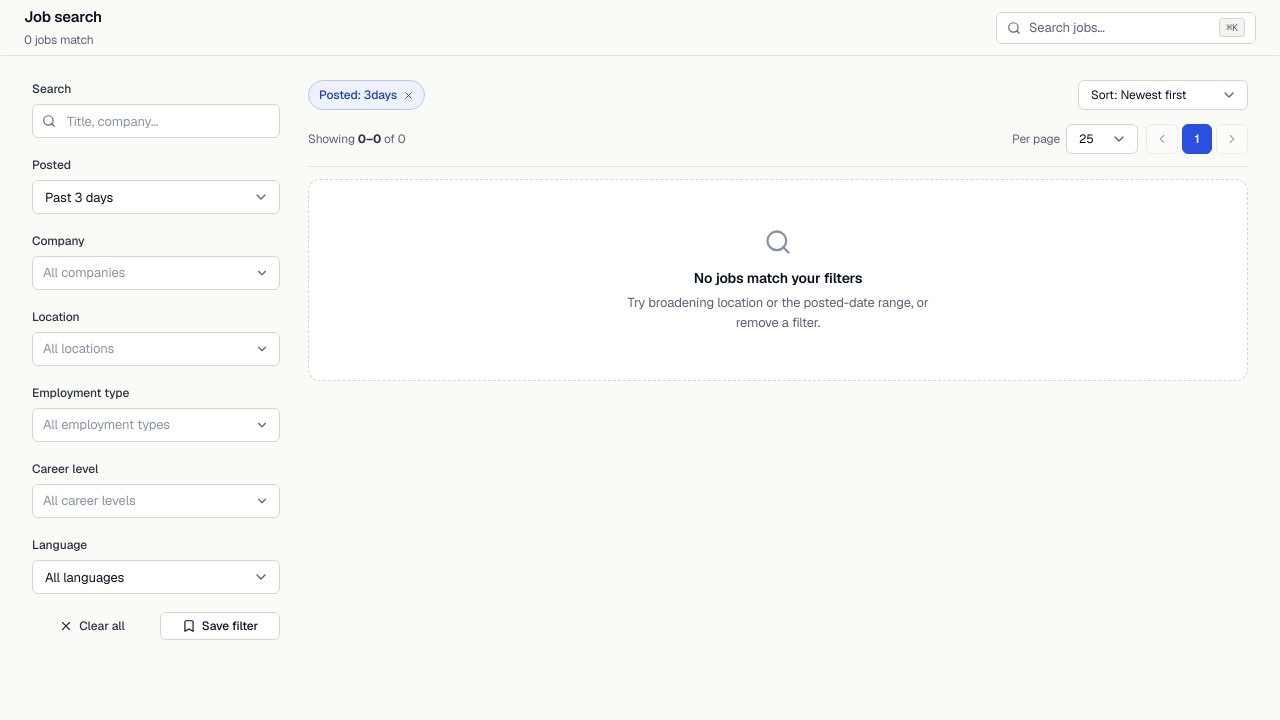
Test: saving a preset (USE_API=true) › TC-523-E04 with no active filters (Posted=Any time), Save filter is not offered
Select "Any time" in the 3rd dropdown at (156, 197), box [32,180,280,214]
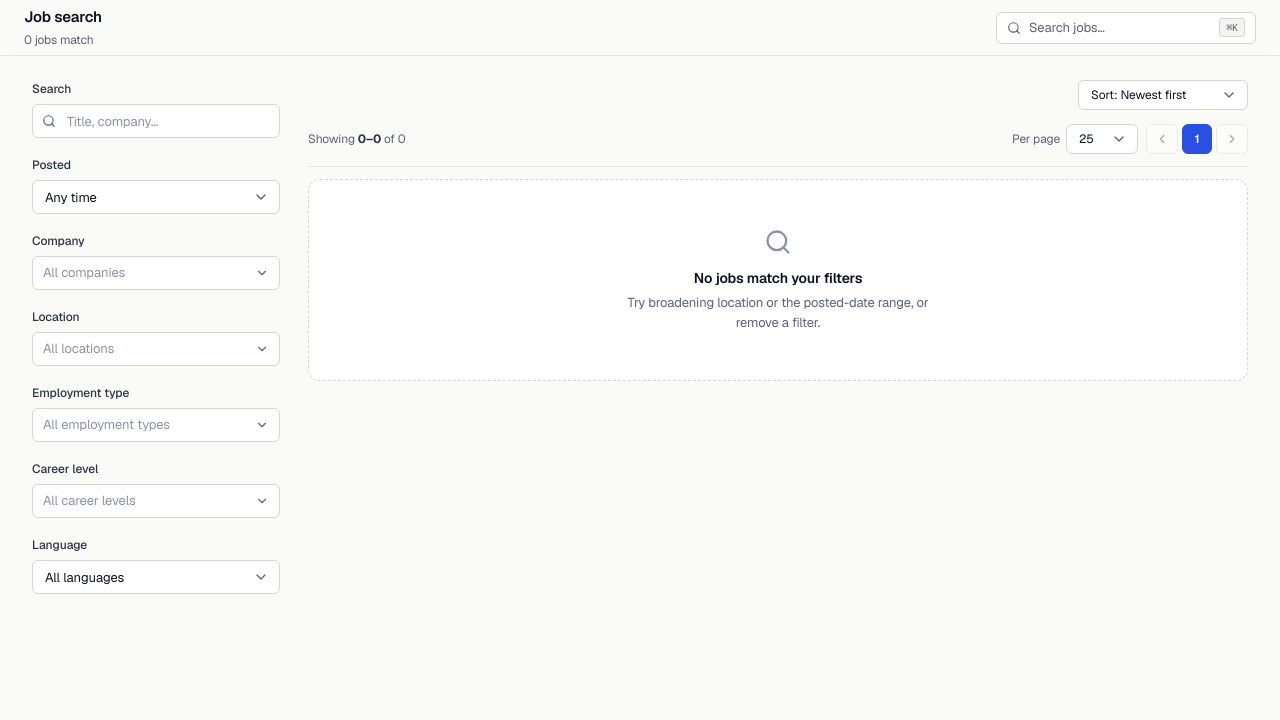
Expected: the button "Save filter" is gone
